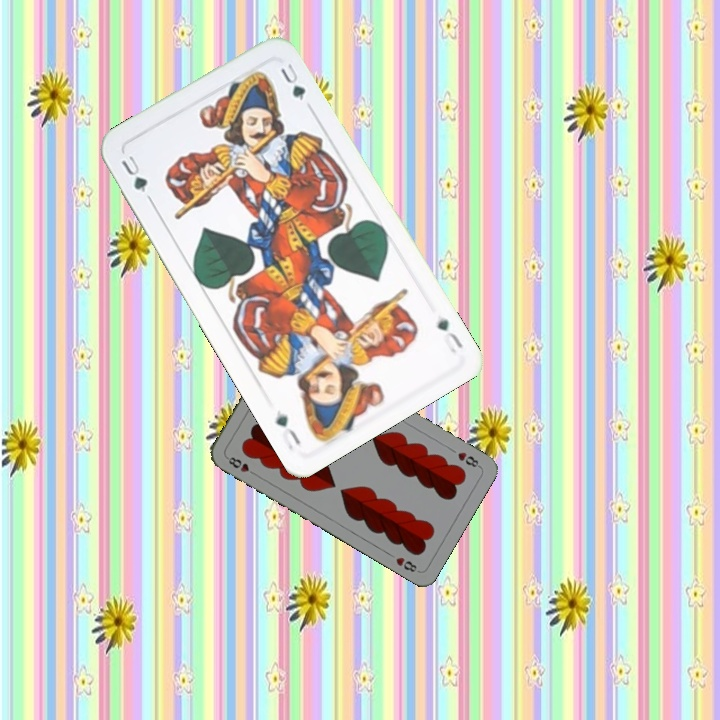GU: (117, 151, 154, 204), (432, 312, 466, 356)
H8: (222, 453, 259, 478), (454, 448, 483, 471)
